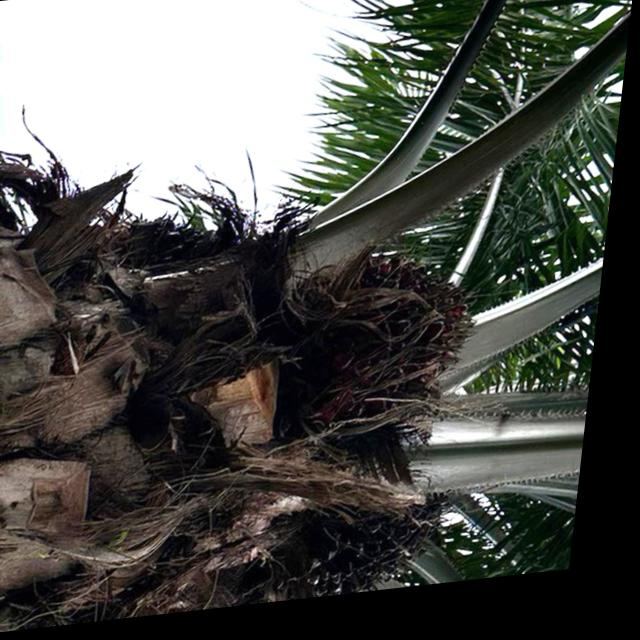ripe: (298, 241, 499, 449)
